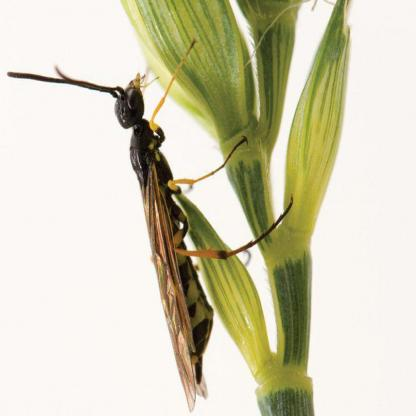sawfly: (4, 38, 297, 412)
